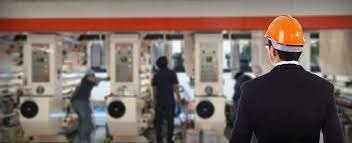helmet: (264, 14, 306, 52)
person with partial safety: (229, 16, 341, 142)
person without safety: (151, 55, 177, 141)
